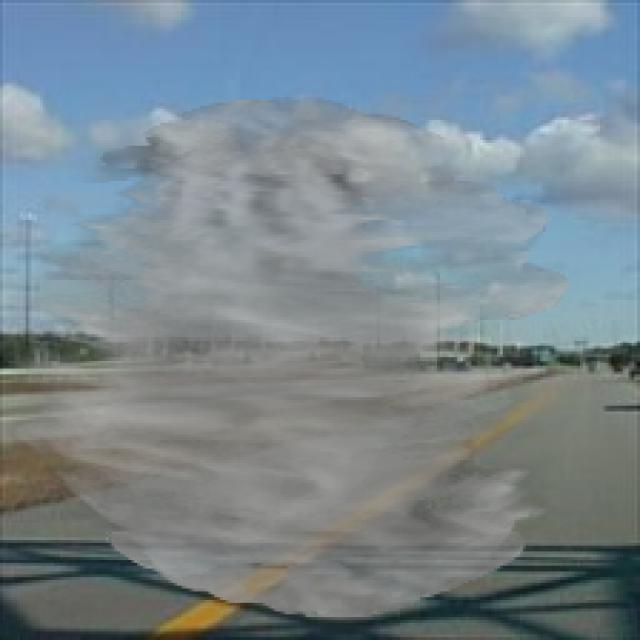smoke: (3, 97, 571, 617)
